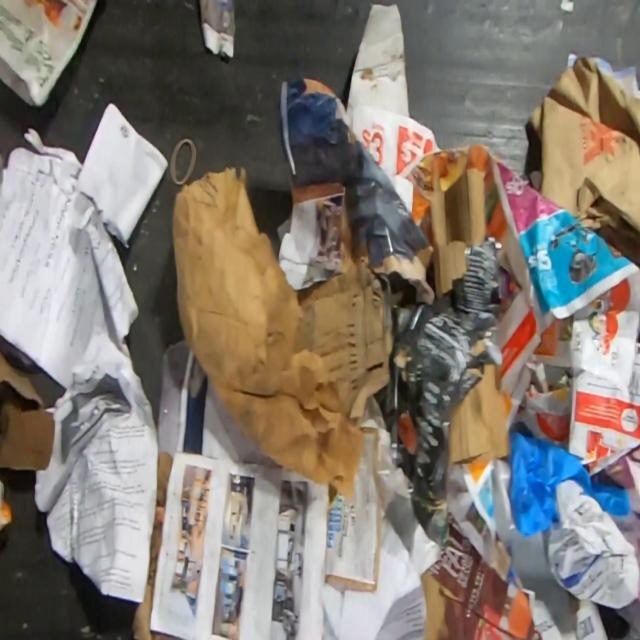cardboard: (527, 52, 640, 268), (300, 254, 393, 421), (420, 524, 541, 640), (344, 2, 413, 123), (429, 166, 487, 301), (446, 362, 512, 471), (0, 347, 56, 472), (131, 523, 183, 639), (156, 336, 189, 458), (156, 450, 172, 508)
metal: (170, 138, 197, 186)
soft_plastic: (492, 460, 557, 584)
